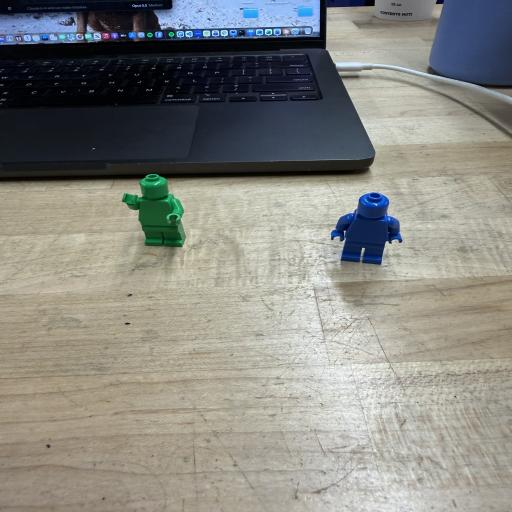blue-minifig: (331, 192, 401, 264)
green-minifig: (123, 175, 185, 246)
